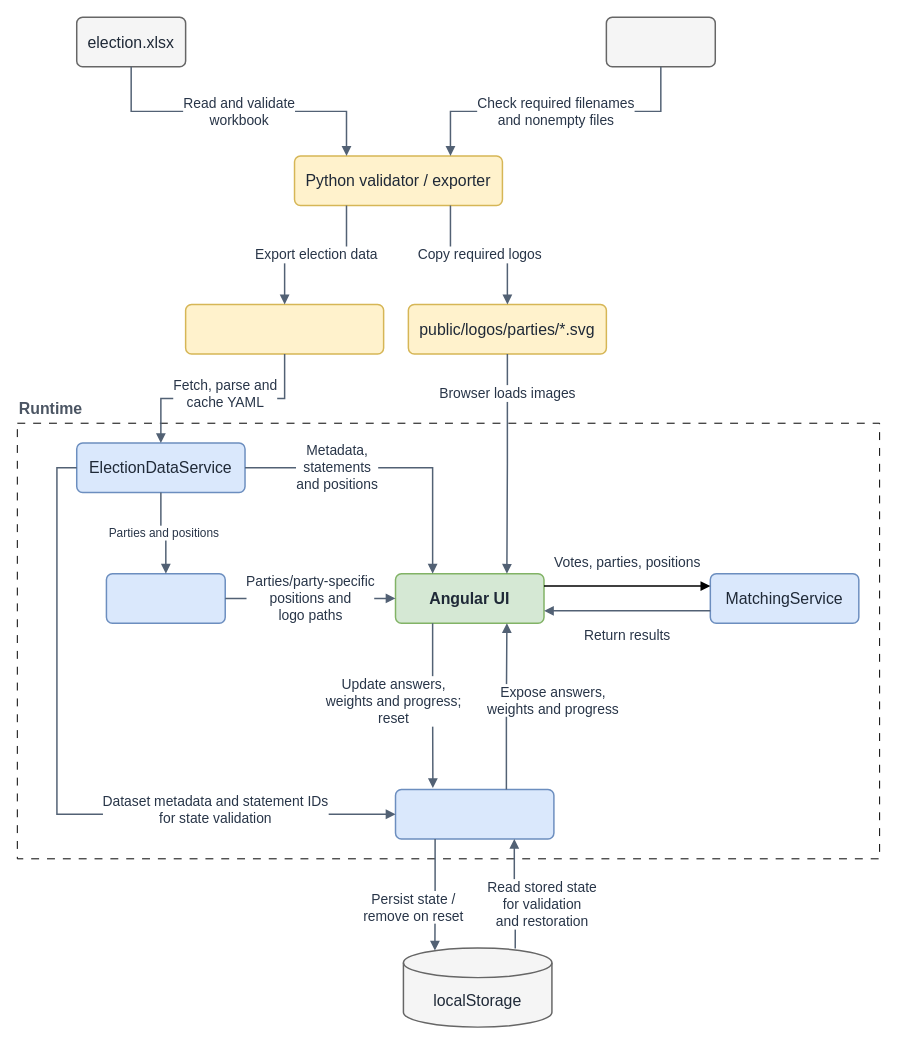
The diagram is 897 pixels wide and 1045 high, and some of its shapes have lost their labels. The centre of each missing label's shape, as x and y in pixels:
"Party SVGs" belongs at [660,41].
"PartyService" belongs at [165,598].
"public/data/*.yaml" belongs at [284,328].
"VotingStateService" belongs at [474,813].
